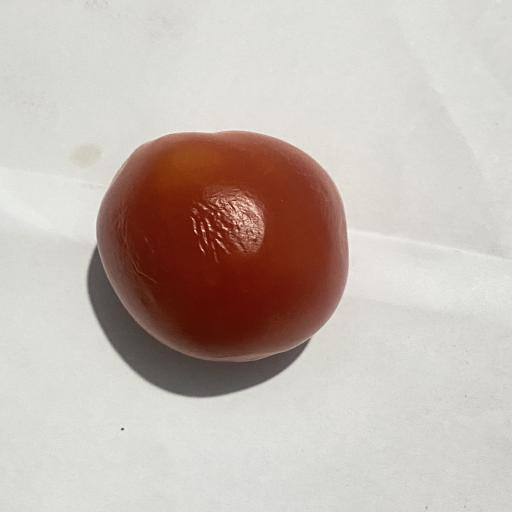overipe: (97, 131, 348, 361)
